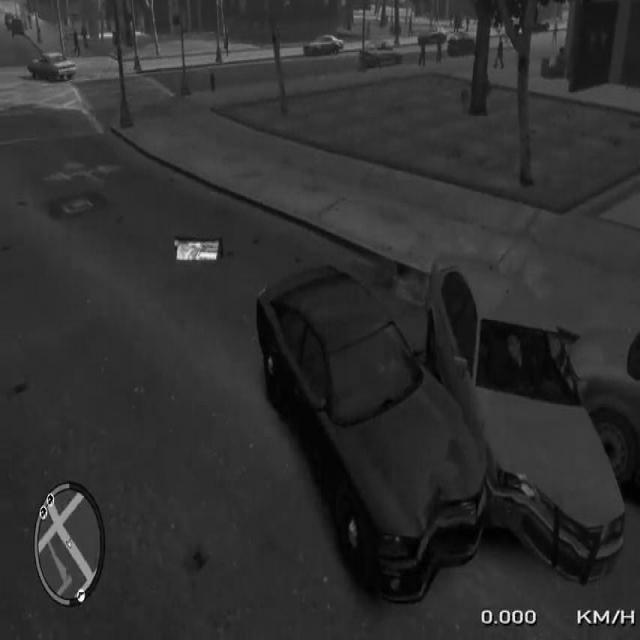vehicle: (231, 242, 474, 614), (407, 229, 628, 578), (563, 322, 640, 502)
